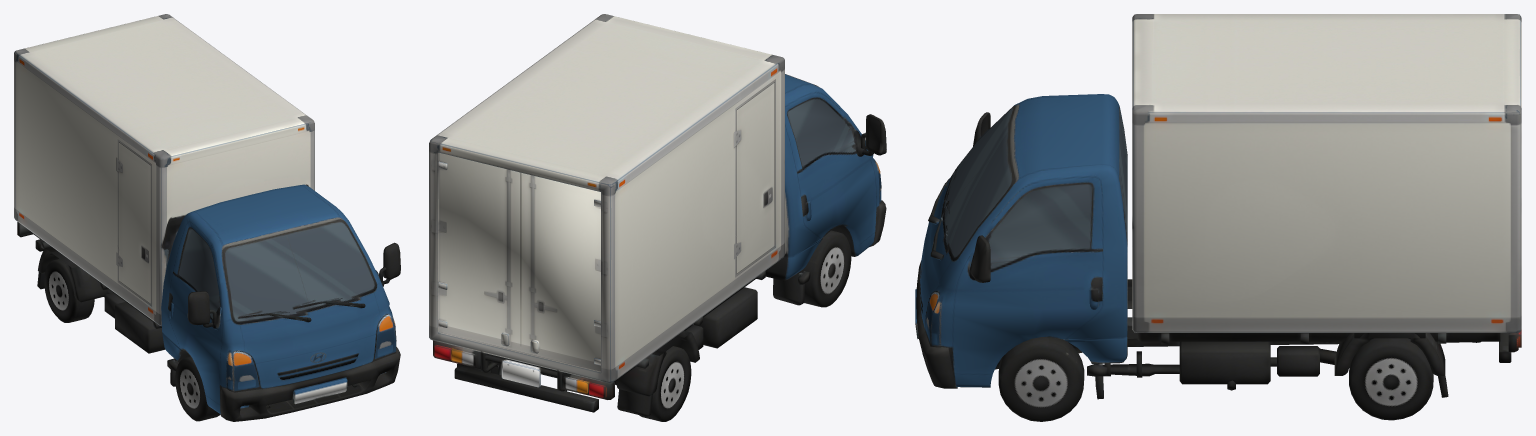
3 renders of one model, left to right at view 1: azimuth 30°, elevation 25°; view 2: azimuth 150°, elevation 25°; view 3: azimuth 270°, elevation 25°, orthographic. The views are drawn at different scales.
Parts seen in each view (by area): view 1: tripo_node_cc548df8-06e8-4a8f-b6c8-8f6eb7d4cc02; view 2: tripo_node_cc548df8-06e8-4a8f-b6c8-8f6eb7d4cc02; view 3: tripo_node_cc548df8-06e8-4a8f-b6c8-8f6eb7d4cc02.
Boxes of the visible parts, x1=… form: tripo_node_cc548df8-06e8-4a8f-b6c8-8f6eb7d4cc02: x1=14, y1=14, x2=400, y2=421; tripo_node_cc548df8-06e8-4a8f-b6c8-8f6eb7d4cc02: x1=429, y1=14, x2=886, y2=421; tripo_node_cc548df8-06e8-4a8f-b6c8-8f6eb7d4cc02: x1=915, y1=14, x2=1521, y2=421.
Bounding box in the file's own units: 0.5308 × 0.5601 × 0.9995.
Materials: 1 (1 with a texture image).
